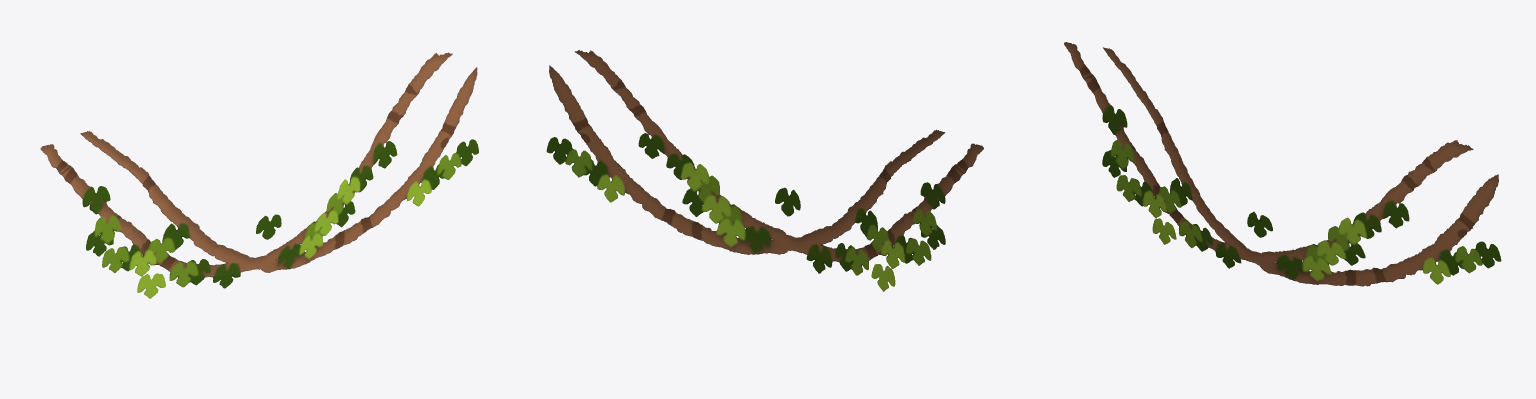
The model's file is sp_veg_ivy_04.fbx.
The picture shows the model from 3 angles, left to right: view 1: azimuth 30°, elevation 25°; view 2: azimuth 150°, elevation 25°; view 3: azimuth 330°, elevation 25°; orthographic projection.
Visible parts, largest first — view 1: veg_ivy_04; view 2: veg_ivy_04; view 3: veg_ivy_04.
Part boxes in pixels (x1,y1,x2,y2): veg_ivy_04: (40, 52, 478, 298); veg_ivy_04: (546, 50, 983, 291); veg_ivy_04: (1064, 42, 1501, 286).
Size of the model in its own units: 100 by 50 by 6.65.
